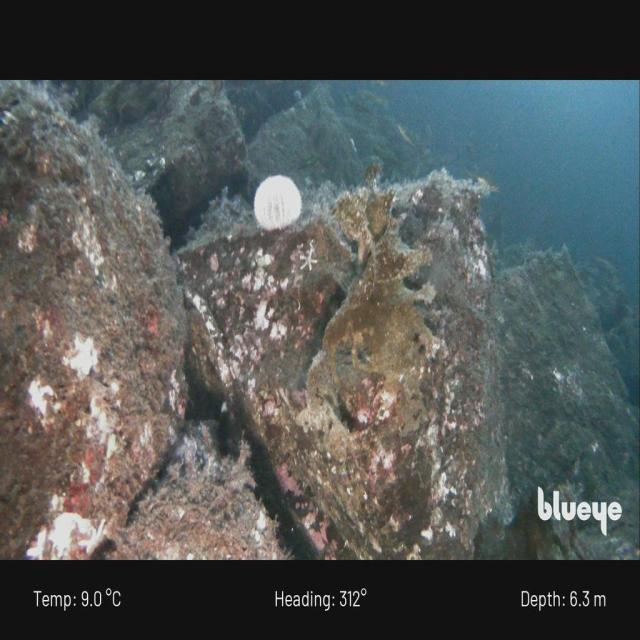Deniz Kestanesi: (254, 174, 302, 232)
